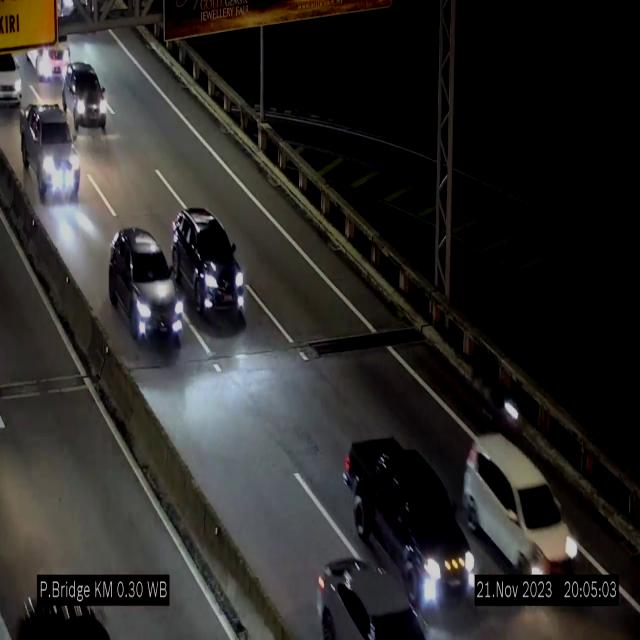Car: (344, 438, 475, 614), (462, 432, 580, 572), (307, 546, 432, 640), (108, 228, 184, 346), (172, 209, 247, 325), (13, 104, 86, 209), (22, 15, 74, 83), (61, 59, 109, 132), (0, 49, 30, 115)
Motorcycle: (491, 373, 520, 438)
